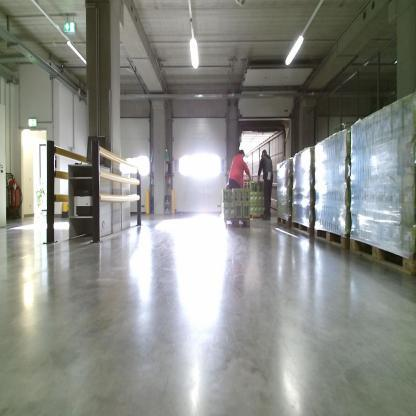pallets: (275, 214, 415, 277)
